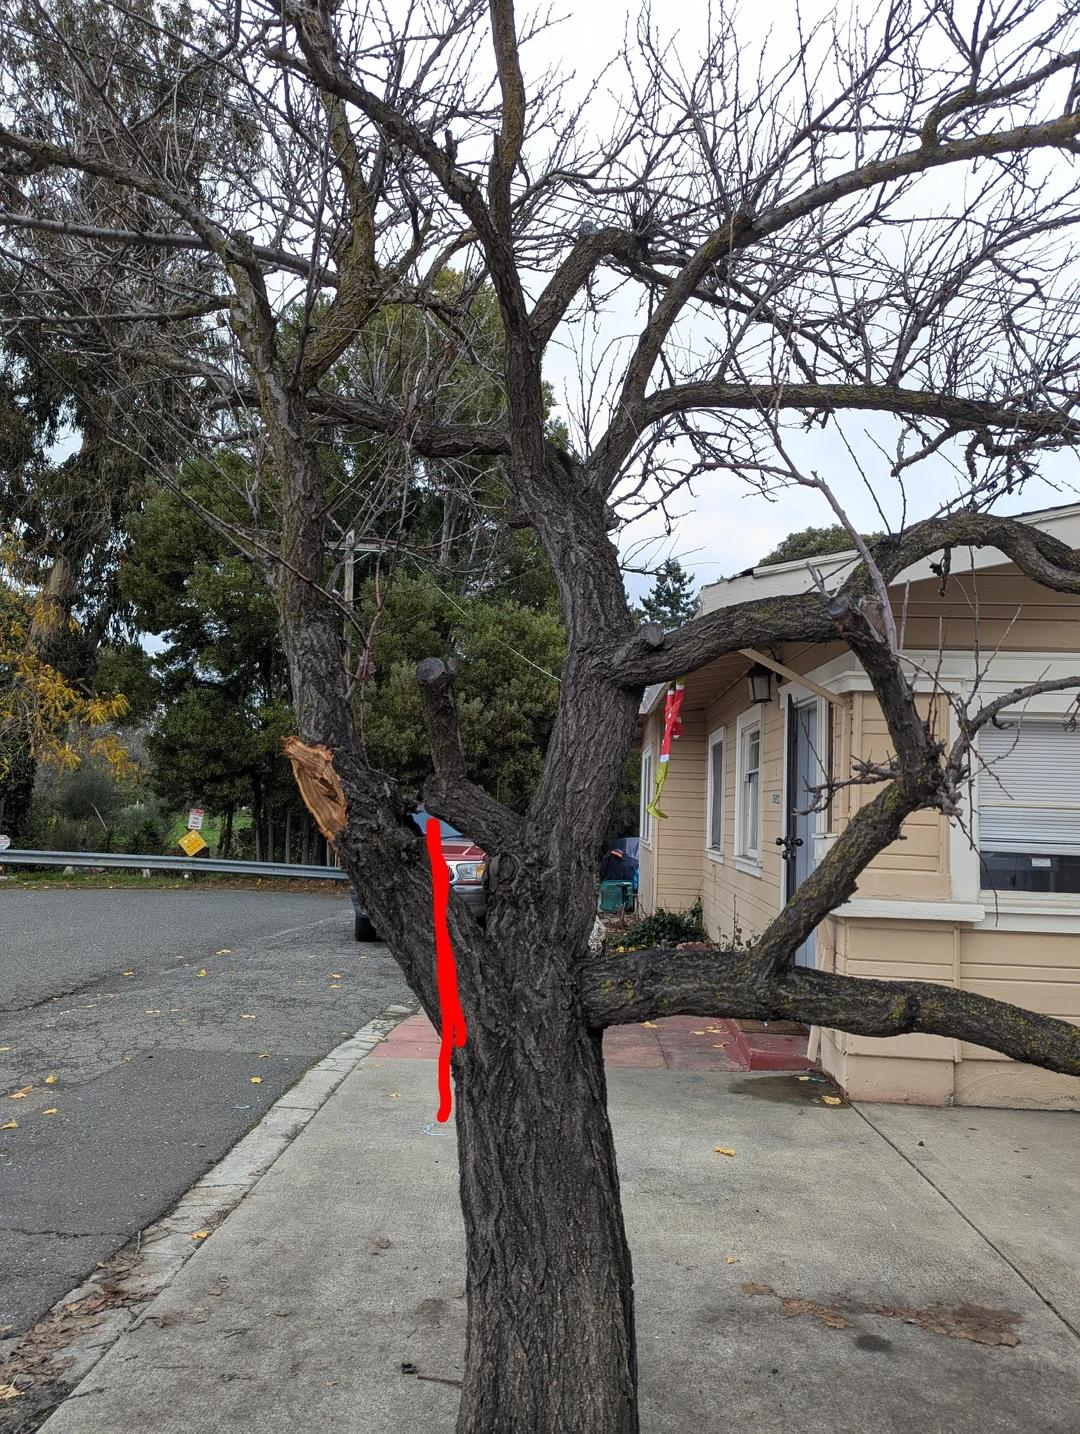mechanical damage: (282, 736, 345, 847)
